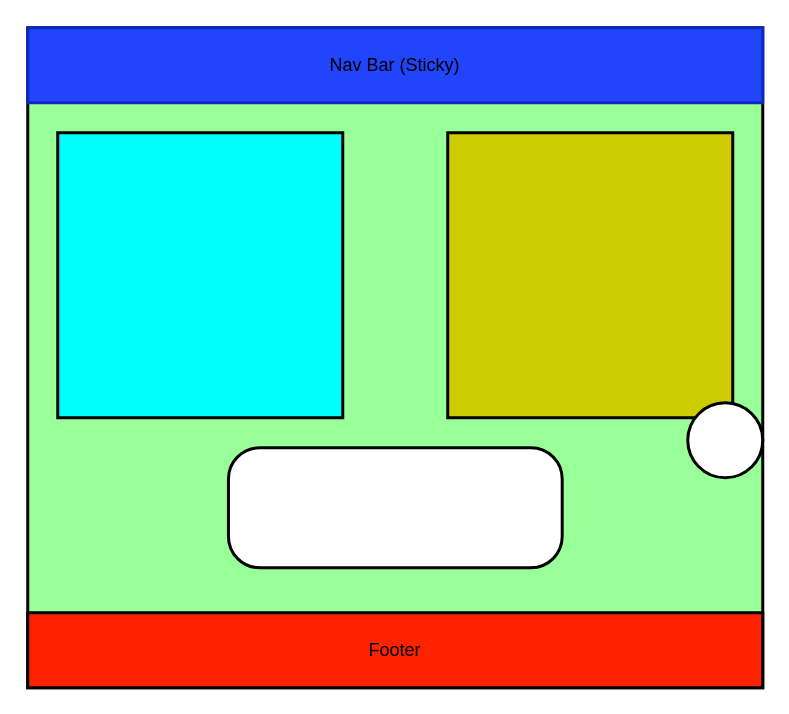
The diagram is 789 pixels wide and 714 high, and some of its shapes have lost their labels. The centre of each missing label's shape, as x and y in pixels:
Icon chipka hua hona chahiye: the point at 725,439
Welcome To This Sigma Web Development Express: the point at 394,507
